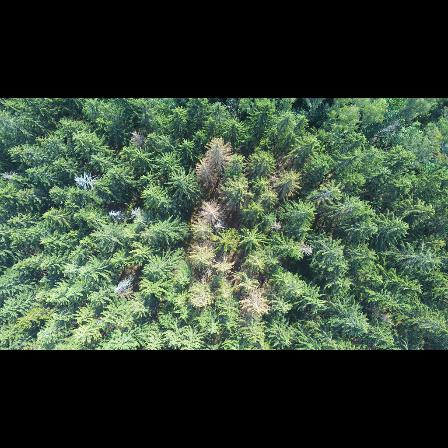Dead: (112, 271, 138, 298), (71, 169, 98, 193), (102, 207, 126, 223), (297, 241, 315, 258), (212, 217, 229, 234)
